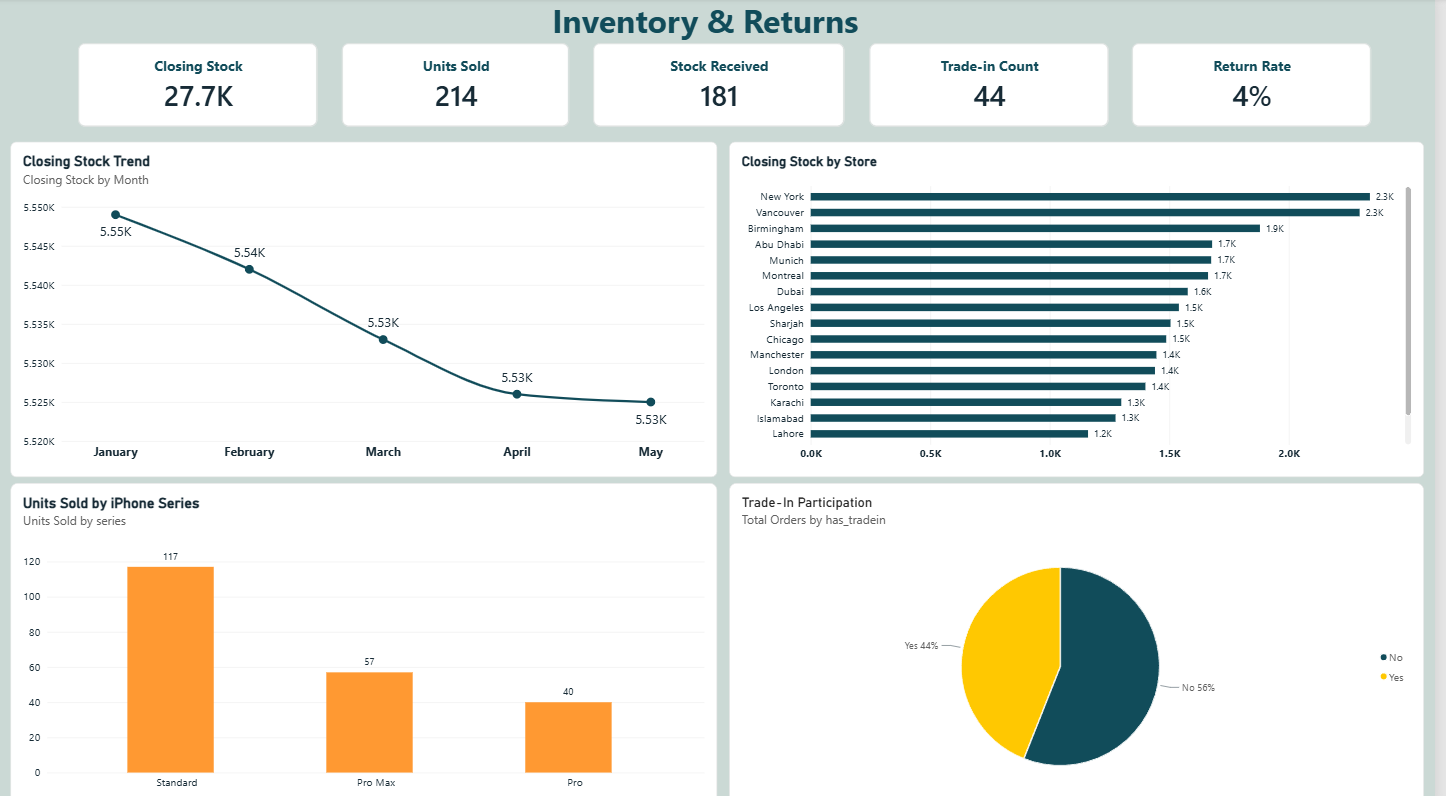

What the dashboard file says about the page in this screenshot:
{"tool":"powerbi","page":{"name":"Inventory & Returns","canvas":[1920,1080],"ordinal":3},"visuals":[{"type":"textbox","box":[400,0,1088,64],"z":0},{"type":"cardVisual","fields":{"Data":["Measures (2).Closing Stock"]},"box":[107.2,60.8,320,112],"z":1000},{"type":"cardVisual","fields":{"Data":["Measures (2).Units Sold"]},"box":[459.2,60.8,304,112],"z":2000},{"type":"cardVisual","fields":{"Data":["Measures (2).Stock Received"]},"box":[795.2,60.8,336,112],"z":3000},{"type":"cardVisual","fields":{"Data":["Measures (2).Trade-in Count"]},"box":[1163.2,60.8,320,112],"z":4000},{"type":"cardVisual","fields":{"Data":["Measures (2).Return Rate"]},"box":[1515.2,60.8,320,112],"z":5000},{"type":"lineChart","title":"Closing Stock Trend","fields":{"Category":["public fact_inventory.month.Variation.Date Hierarchy.Month"],"Y":["Measures (2).Closing Stock"]},"box":[16,192,944,448],"z":6000},{"type":"clusteredBarChart","title":"Closing Stock by Store","fields":{"Category":["public dim_store.city"],"Y":["Measures (2).Closing Stock"]},"box":[976,192,928,448],"z":7000},{"type":"clusteredColumnChart","title":"Units Sold by iPhone Series","fields":{"Category":["public dim_product.series"],"Y":["Measures (2).Units Sold"]},"box":[16,648,944,432],"z":8000},{"type":"pieChart","title":"Trade-In Participation","fields":{"Category":["public fact_sales.has_tradein"],"Y":["Measures (2).Total Orders"]},"box":[976,648,928,432],"z":9000}]}

Visuals, with their boxes in screenshot pixels (x1, y1, x2, y2), scaled from the page's 1920x1080 canvas onto the 1446x796 screenshot:
textbox: <region>301, 0, 1121, 47</region>
cardVisual - Measures (2).Closing Stock: <region>81, 45, 322, 127</region>
cardVisual - Measures (2).Units Sold: <region>346, 45, 575, 127</region>
cardVisual - Measures (2).Stock Received: <region>599, 45, 852, 127</region>
cardVisual - Measures (2).Trade-in Count: <region>876, 45, 1117, 127</region>
cardVisual - Measures (2).Return Rate: <region>1141, 45, 1382, 127</region>
"Closing Stock Trend" lineChart: <region>12, 142, 723, 472</region>
"Closing Stock by Store" clusteredBarChart: <region>735, 142, 1434, 472</region>
"Units Sold by iPhone Series" clusteredColumnChart: <region>12, 478, 723, 795</region>
"Trade-In Participation" pieChart: <region>735, 478, 1434, 795</region>
